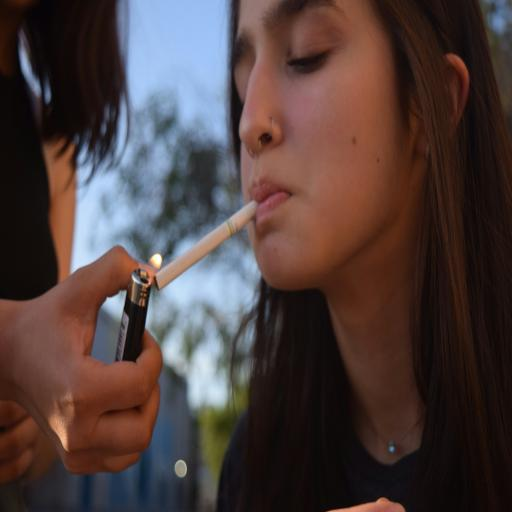lighter: (105, 236, 175, 403)
